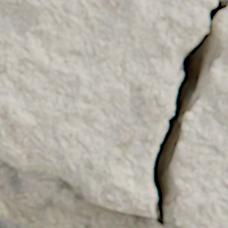brick: (0, 219, 32, 227)
broken_brick: (0, 0, 215, 218), (170, 10, 227, 227)
crack: (150, 0, 227, 226), (73, 178, 82, 190)
